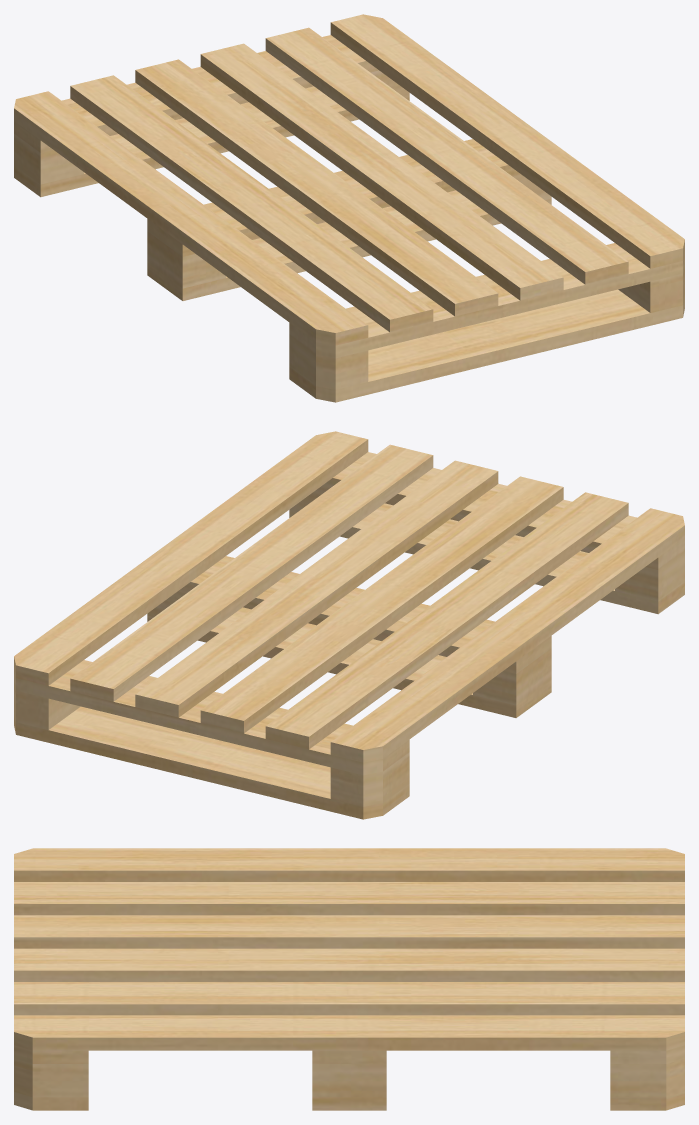
File: eu_pallet.dae
The picture shows the model from 3 angles, top to bottom: view 1: azimuth 30°, elevation 25°; view 2: azimuth 150°, elevation 25°; view 3: azimuth 270°, elevation 25°; orthographic projection. The views are drawn at different scales.
Visible parts, largest first — view 1: Cube.007; view 2: Cube.007; view 3: Cube.007.
Part boxes in pixels (bbox=[...]): Cube.007: bbox=[14, 14, 684, 402]; Cube.007: bbox=[14, 431, 684, 819]; Cube.007: bbox=[14, 848, 684, 1110].
Bounding box in the file's own units: 0.8 × 1.2 × 0.144.
Materials: 1 (1 with a texture image).
